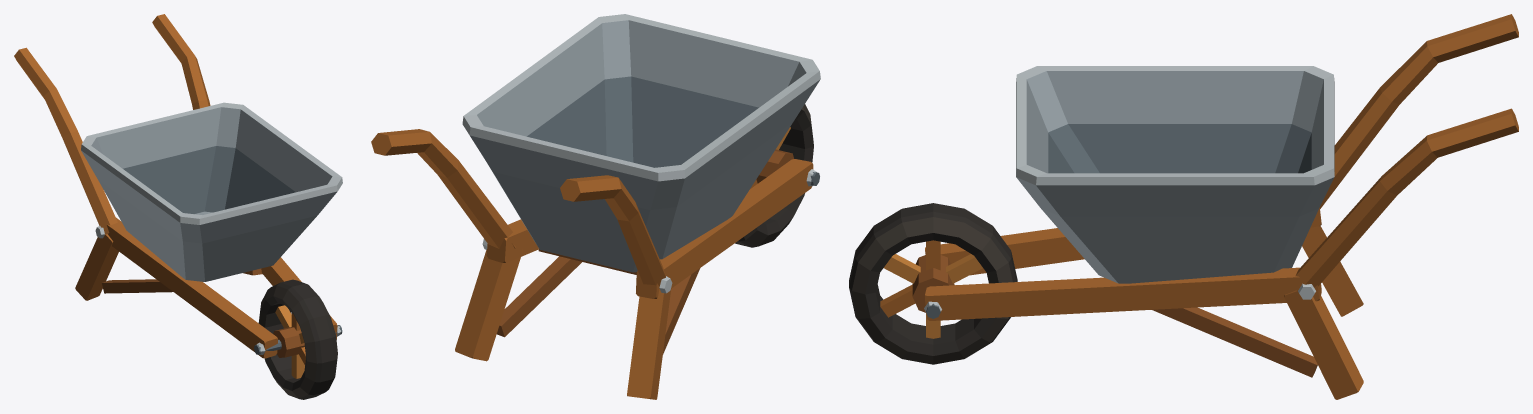
File: Wheelbarrow.glb
3 renders of one model, left to right at view 1: azimuth 30°, elevation 25°; view 2: azimuth 150°, elevation 25°; view 3: azimuth 270°, elevation 25°, orthographic. The views are drawn at different scales.
Visible parts, largest first — view 1: Wheelbarrow; view 2: Wheelbarrow; view 3: Wheelbarrow.
Part boxes in pixels (bbox=[...]): Wheelbarrow: bbox=[14, 14, 342, 399]; Wheelbarrow: bbox=[371, 14, 820, 399]; Wheelbarrow: bbox=[849, 14, 1518, 399].
Bounding box in the file's own units: 0.6293 × 0.7813 × 1.6.
